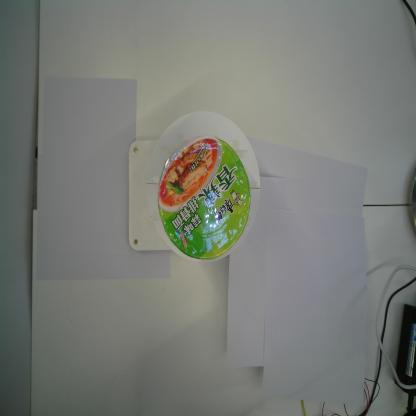Instant Noodles: (156, 133, 252, 262)
